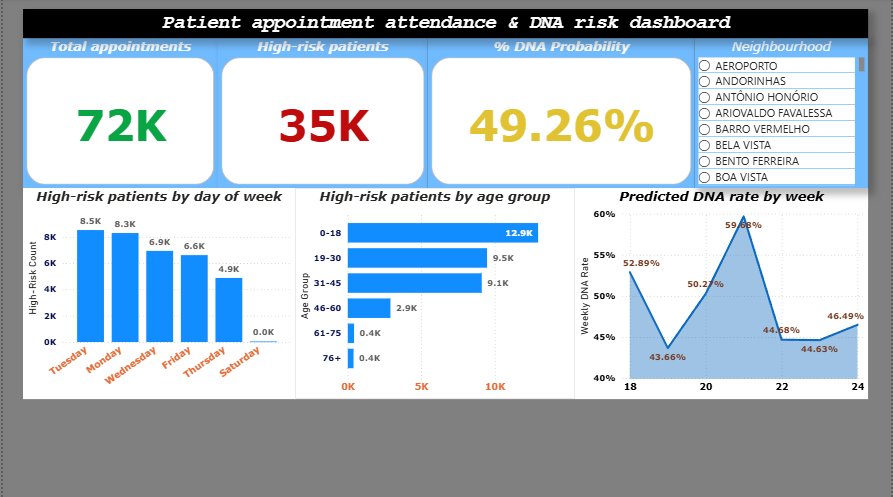

This screenshot's page, from the dashboard's own definition file:
{"tool":"powerbi","page":{"name":"Overview / KPI ","canvas":[1280,720],"ordinal":0},"visuals":[{"type":"cardVisual","title":"Total appointments","fields":{"Data":["appointments_predictions.Total Appointments"]},"box":[0,37,280.5,280.5],"z":0},{"type":"cardVisual","title":"High_risk _count","fields":{"Data":["appointments_predictions.High-Risk Count"]},"box":[759.3,35.3,280.5,282.2],"z":1000},{"type":"cardVisual","title":"%  DNA Probability","fields":{"Data":["appointments_predictions.Avg DNA Probability"]},"box":[290.6,37,384.7,280.5],"z":2000},{"type":"clusteredColumnChart","title":"High-risk patients by day of week","fields":{"Category":["appointments_predictions.appointment_dayofweek"],"Y":["appointments_predictions.High-Risk Count"]},"box":[0,317.5,282.2,282.2],"z":3000},{"type":"clusteredBarChart","title":"High-risk patients by age group","fields":{"Category":["appointments_predictions.Age Group"],"Y":["appointments_predictions.High-Risk Count"]},"box":[317.5,342.7,423.3,282.2],"z":4000}]}

Visuals, with their boxes in screenshot pixels (x1, y1, x2, y2), scaled from the page's 1280x720 canvas onto the 893x497 screenshot:
"Total appointments" cardVisual: locate(0, 26, 196, 219)
"High_risk _count" cardVisual: locate(530, 24, 725, 219)
"%  DNA Probability" cardVisual: locate(203, 26, 471, 219)
"High-risk patients by day of week" clusteredColumnChart: locate(0, 219, 197, 414)
"High-risk patients by age group" clusteredBarChart: locate(222, 237, 517, 431)
